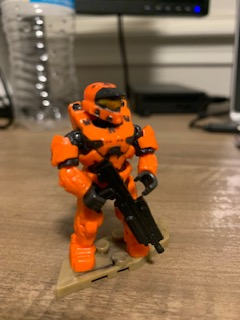rifle: (87, 158, 166, 259)
spartan: (49, 76, 159, 269)
